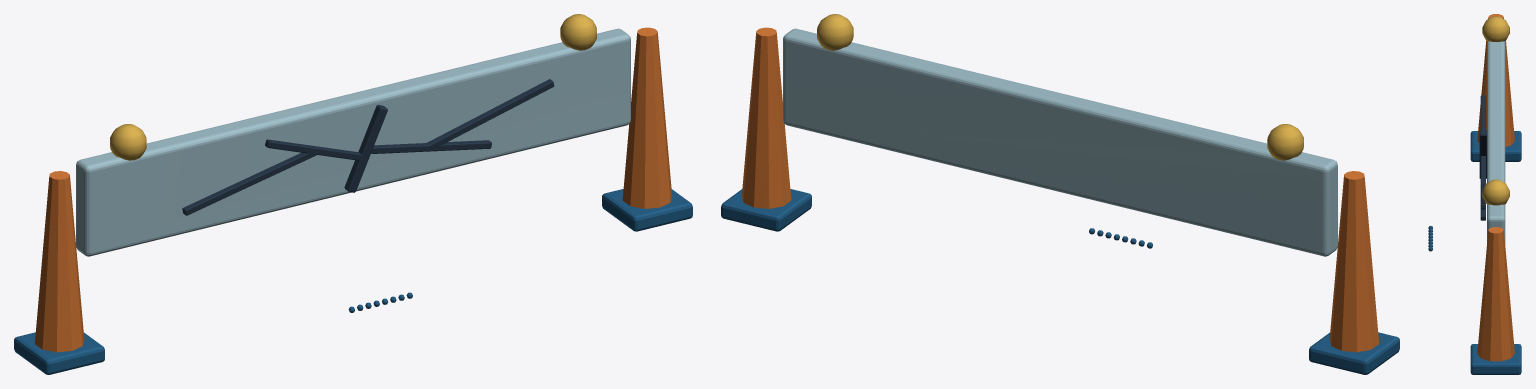
The model's file is glacier_cracking_ice_marker_v1.glb.
The picture shows the model from 3 angles, left to right: view 1: azimuth 30°, elevation 25°; view 2: azimuth 150°, elevation 25°; view 3: azimuth 270°, elevation 25°; orthographic projection. The views are drawn at different scales.
Visible parts, largest first — view 1: glacier_cracking_ice_marker_v1; view 2: glacier_cracking_ice_marker_v1; view 3: glacier_cracking_ice_marker_v1.
Boxes of the visible parts, <box> form: glacier_cracking_ice_marker_v1: <box>14,14,692,374</box>; glacier_cracking_ice_marker_v1: <box>721,14,1399,374</box>; glacier_cracking_ice_marker_v1: <box>1428,14,1521,374</box>.
Bounding box in the file's own units: 7.82 × 2.48 × 1.32.
